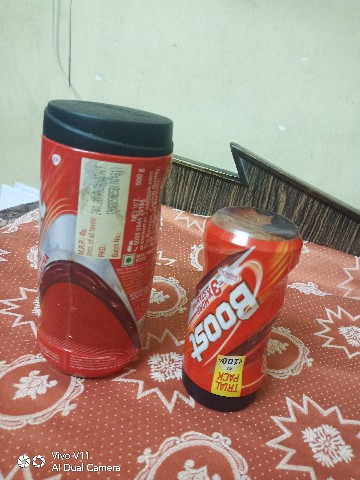boost big: (26, 95, 173, 382)
boost small: (177, 197, 318, 417)
